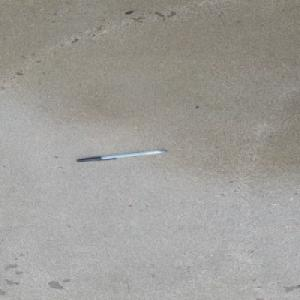Pen: (75, 148, 167, 162)
